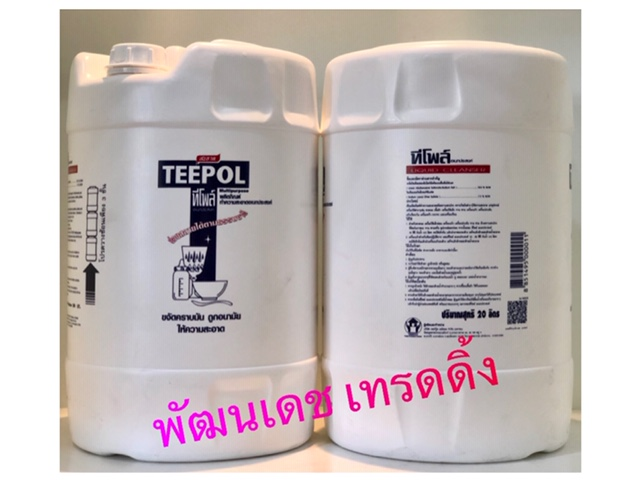Cleaning_solution: (63, 30, 321, 464), (321, 35, 577, 464)
